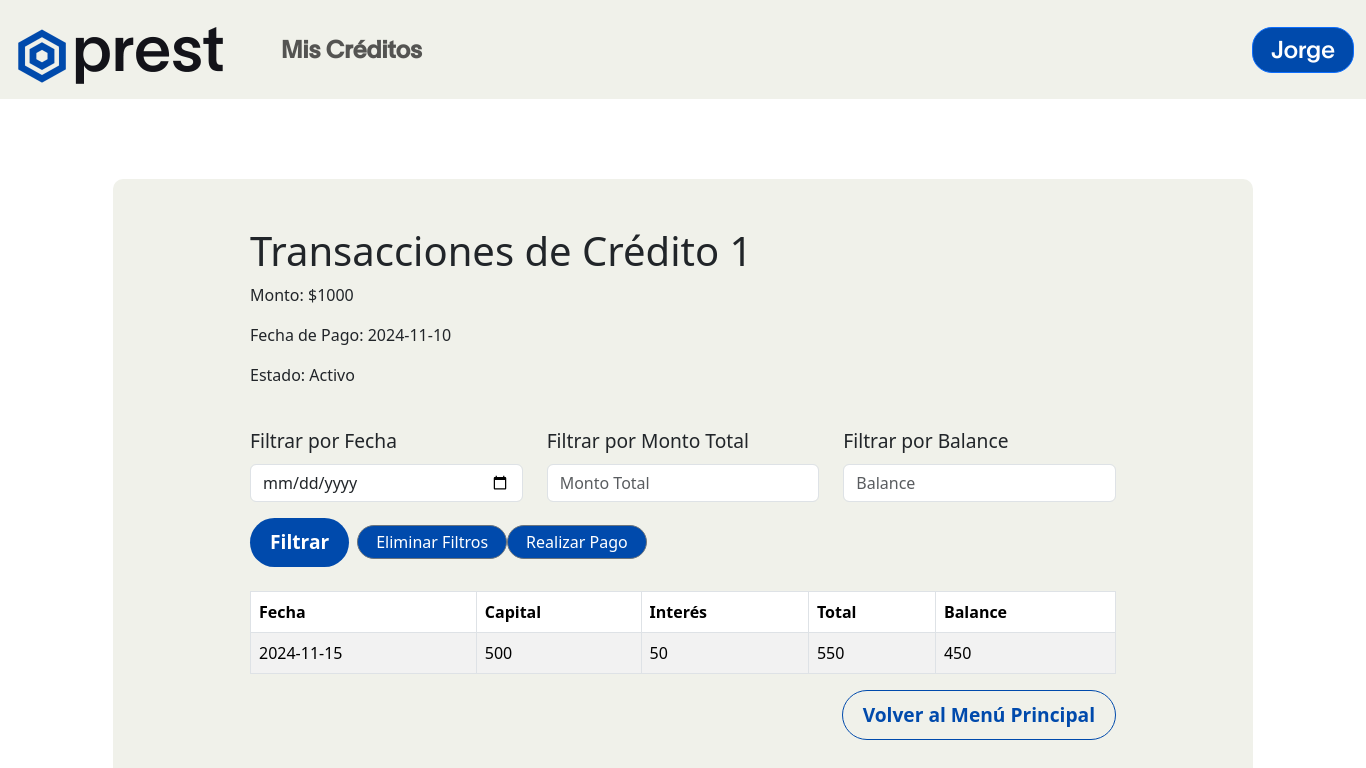
Test: Componente VisualizarTransacciones › 3. Muestra "No se encontraron transacciones" al filtrar sin resultados
expect the heading "Transacciones de Crédito 1" is shown: met, box x1=250 y1=223 x2=752 y2=278
Type "2023-01-01" into the date field labelled "Filtrar por Fecha".
click(386, 483); type("2023-01-01")  # box x1=250 y1=464 x2=523 y2=502
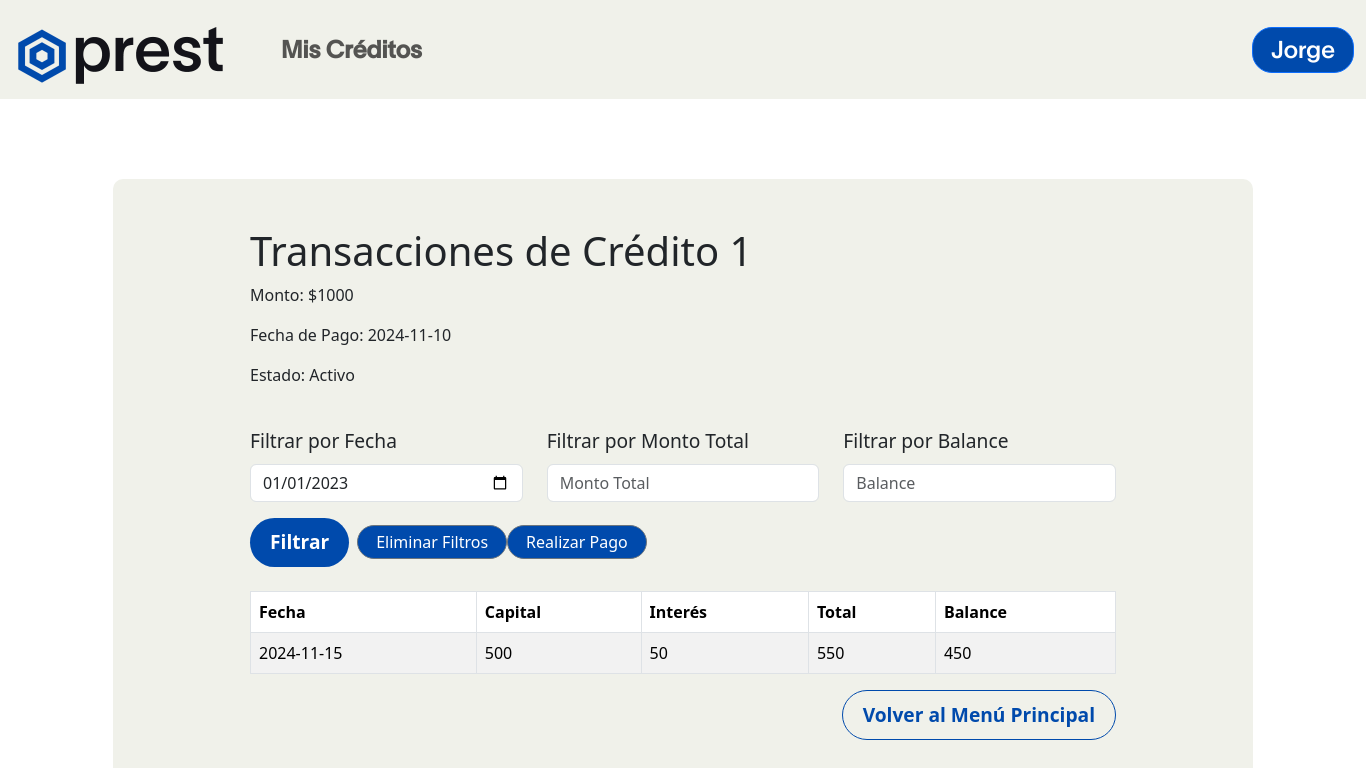
Click the button "Filtrar".
click(300, 542)  # box x1=250 y1=518 x2=349 y2=567
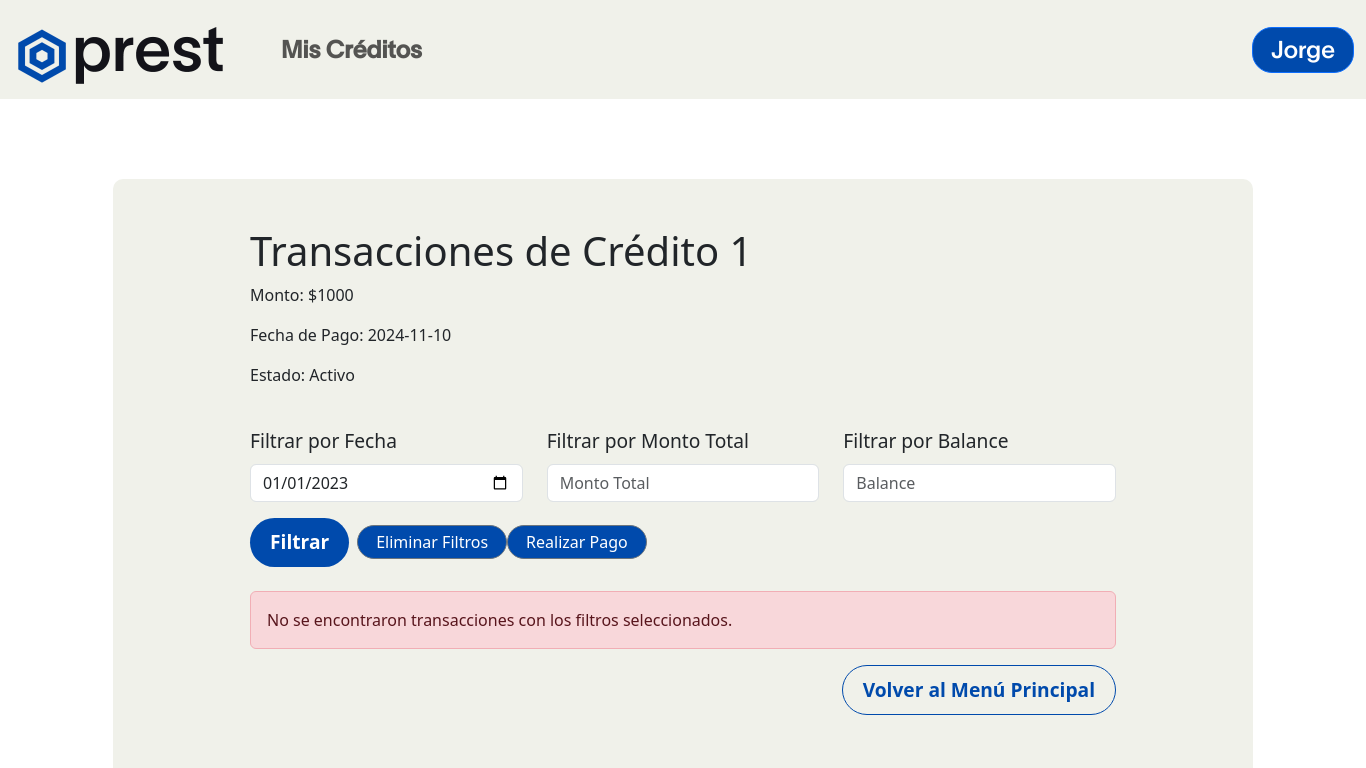
expect the text "No se encontraron transacciones con los filtros seleccionados." is shown: met, box x1=250 y1=591 x2=1116 y2=649
